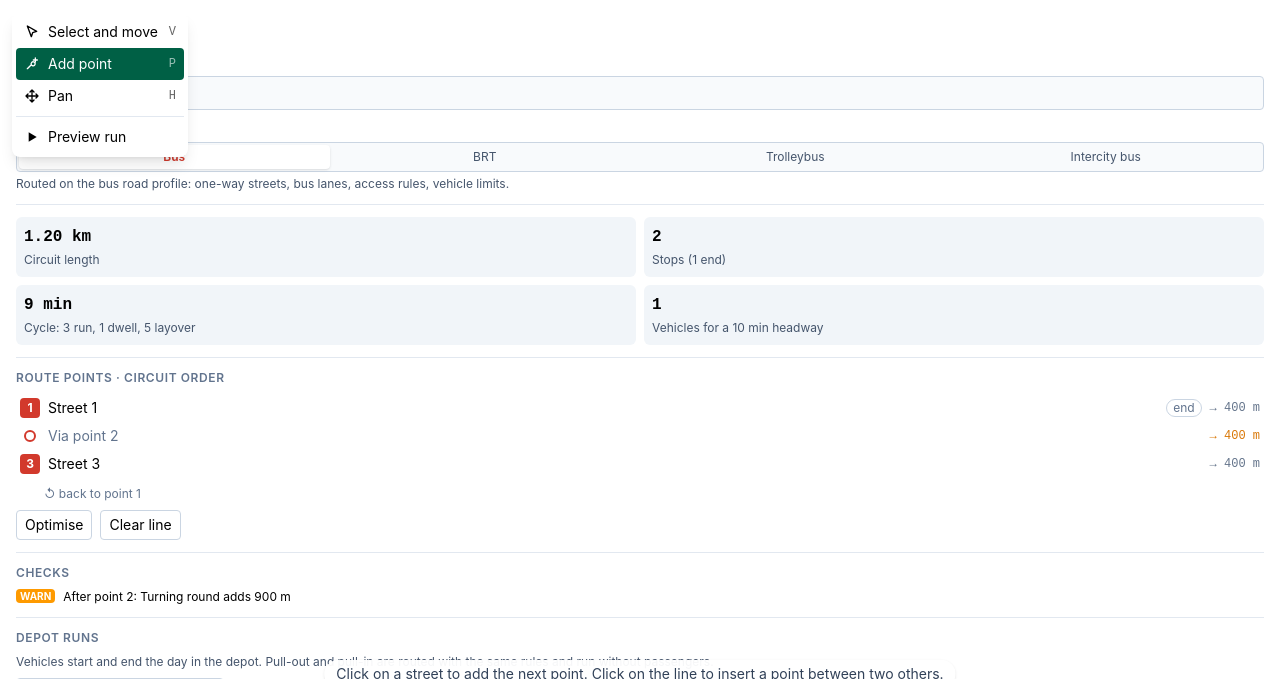
Test: Street line editor › promotes a via point to a stop and deletes points
Expected: the element named "Mode" is shown, [16, 142, 1264, 172]
Click the text "Via point 2": (83, 436) [48, 427, 118, 444]
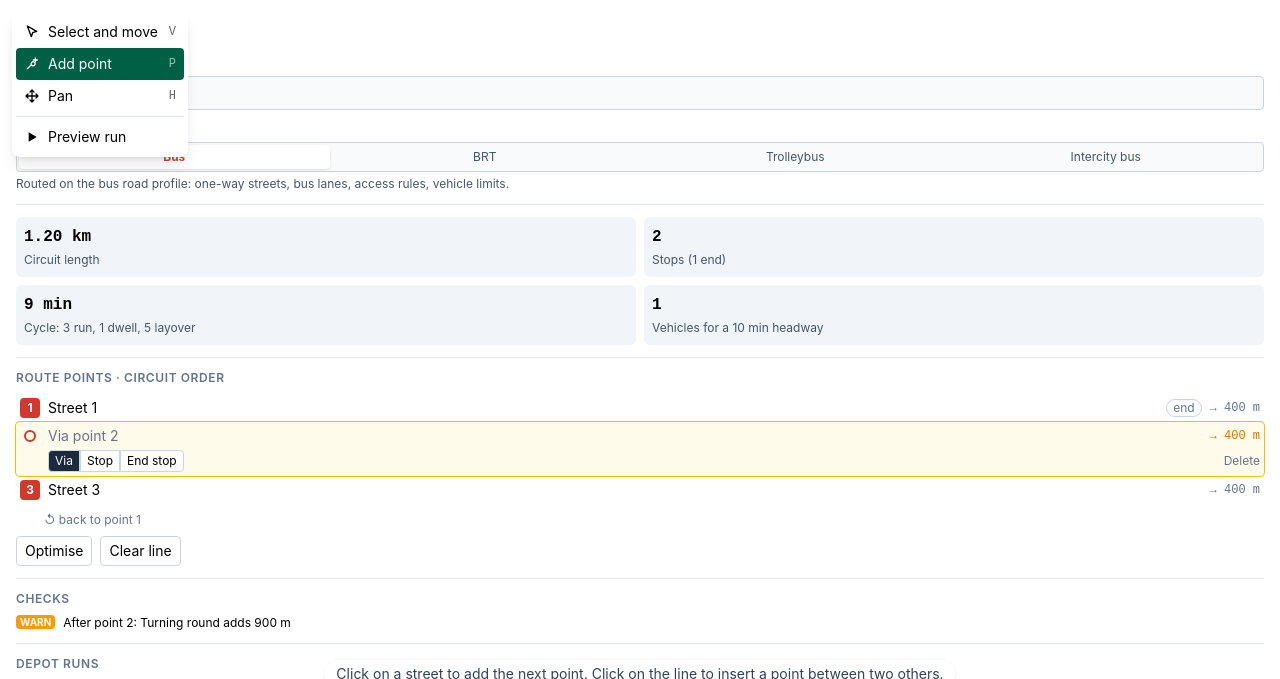
Click the button "Stop": (100, 461) [80, 450, 120, 472]
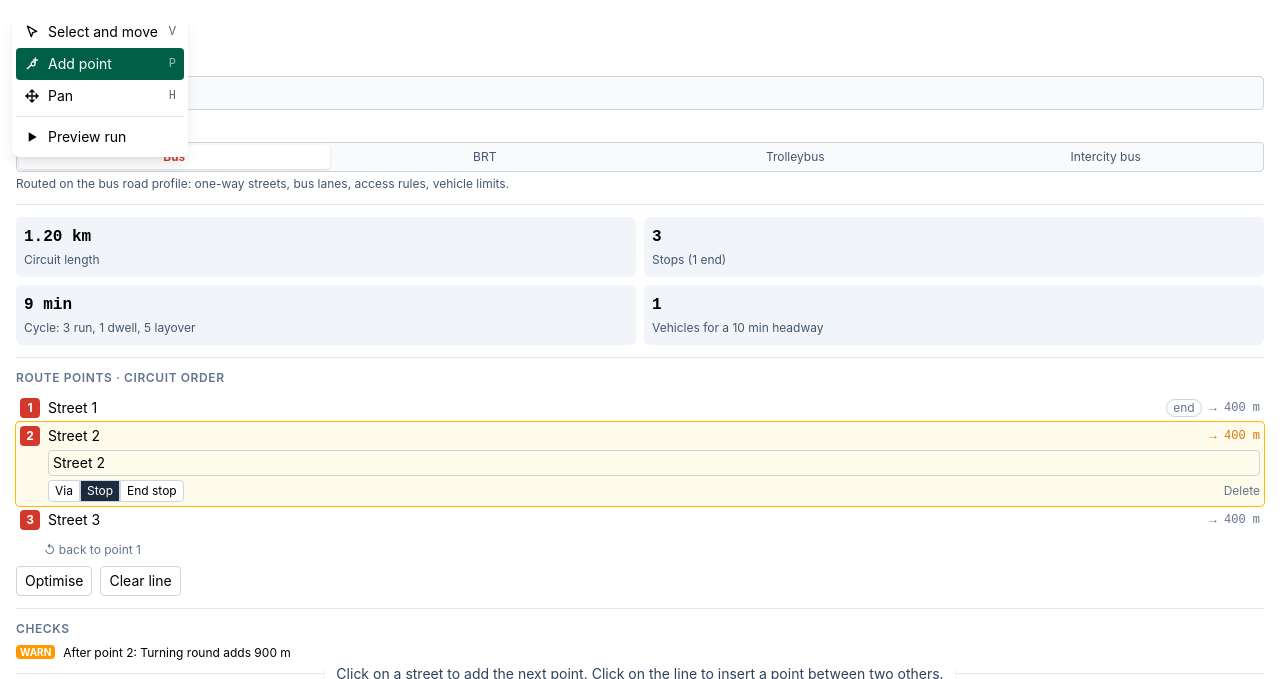
Expected: the field showing "Street 2" is shown, [48, 450, 1260, 476]
Click the button with aria-label "Delete point 2": (1242, 491) [1224, 483, 1260, 499]
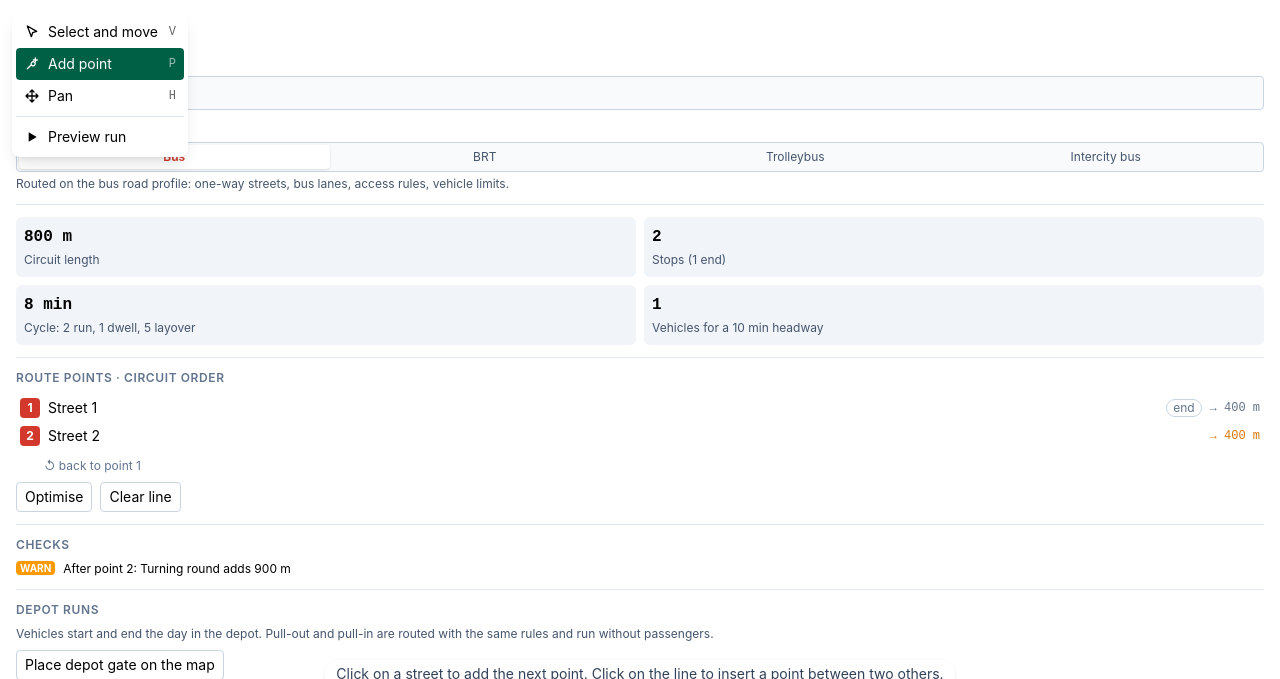
Expected: the text "Street 3" is gone
